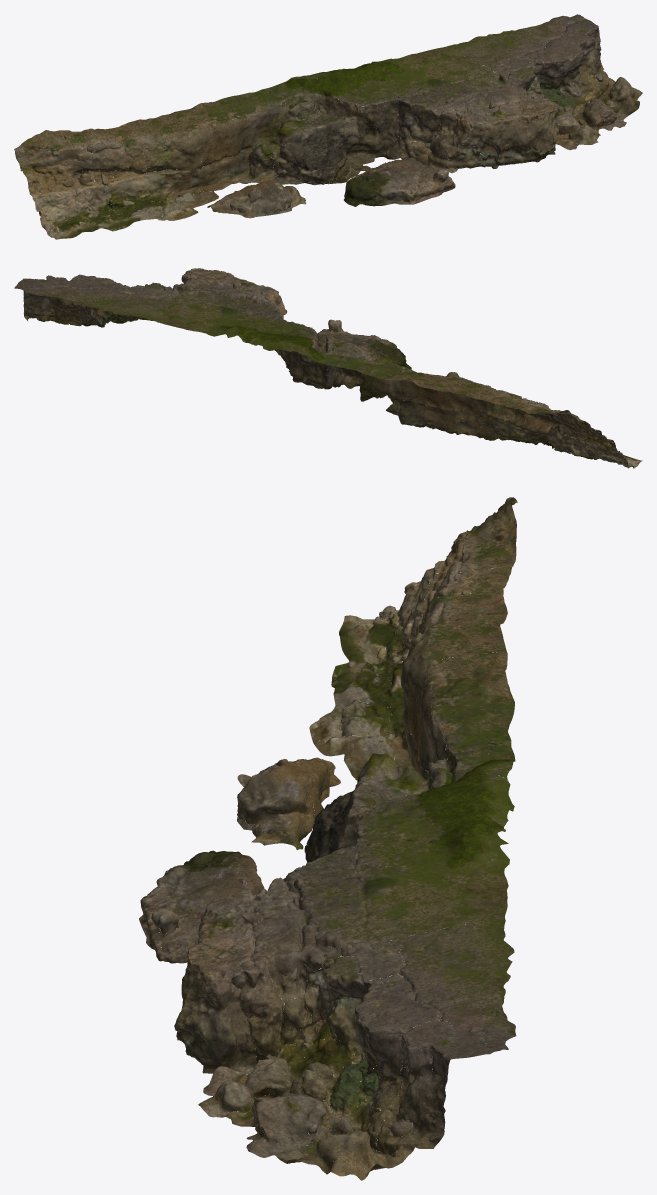
File: surface-cliff.glb
3 renders of one model, top to bottom at view 1: azimuth 30°, elevation 25°; view 2: azimuth 150°, elevation 25°; view 3: azimuth 270°, elevation 25°, orthographic. The views are drawn at different scales.
Parts seen in each view (by area): view 1: ALIEN_CLIFF_LOD0; view 2: ALIEN_CLIFF_LOD0; view 3: ALIEN_CLIFF_LOD0.
Part boxes in pixels (<box>): ALIEN_CLIFF_LOD0: <box>14,14,642,239</box>; ALIEN_CLIFF_LOD0: <box>14,268,642,468</box>; ALIEN_CLIFF_LOD0: <box>139,497,517,1180</box>.
Bounding box in the file's own units: 86.77 × 11 × 24.25.
1 material, 1 textured.
